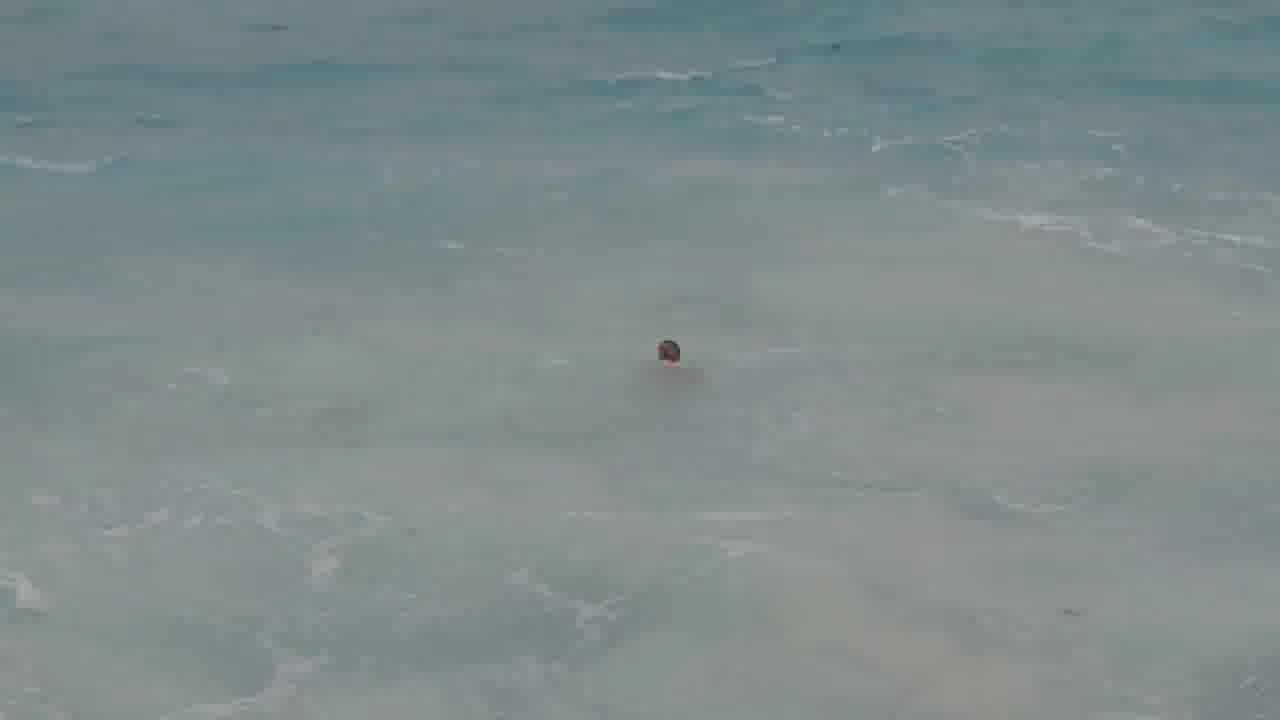swimmer: (647, 332, 695, 375)
